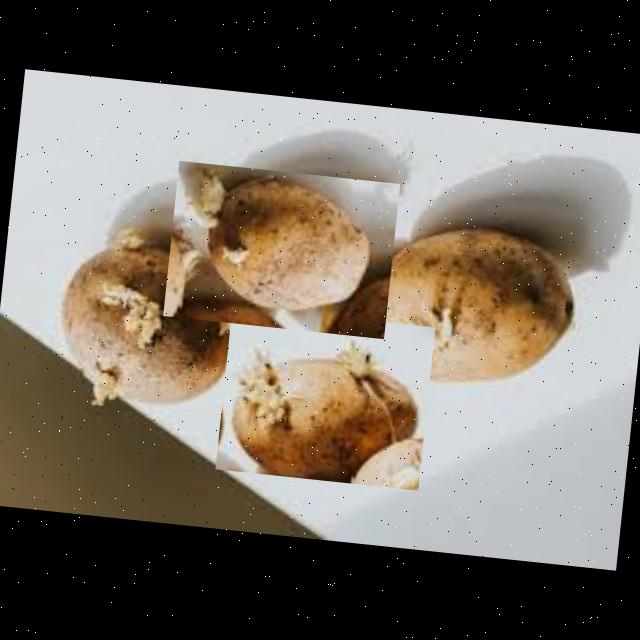Sprouted potato: (354, 220, 592, 410), (44, 222, 240, 441), (162, 160, 400, 338), (215, 306, 435, 490)
